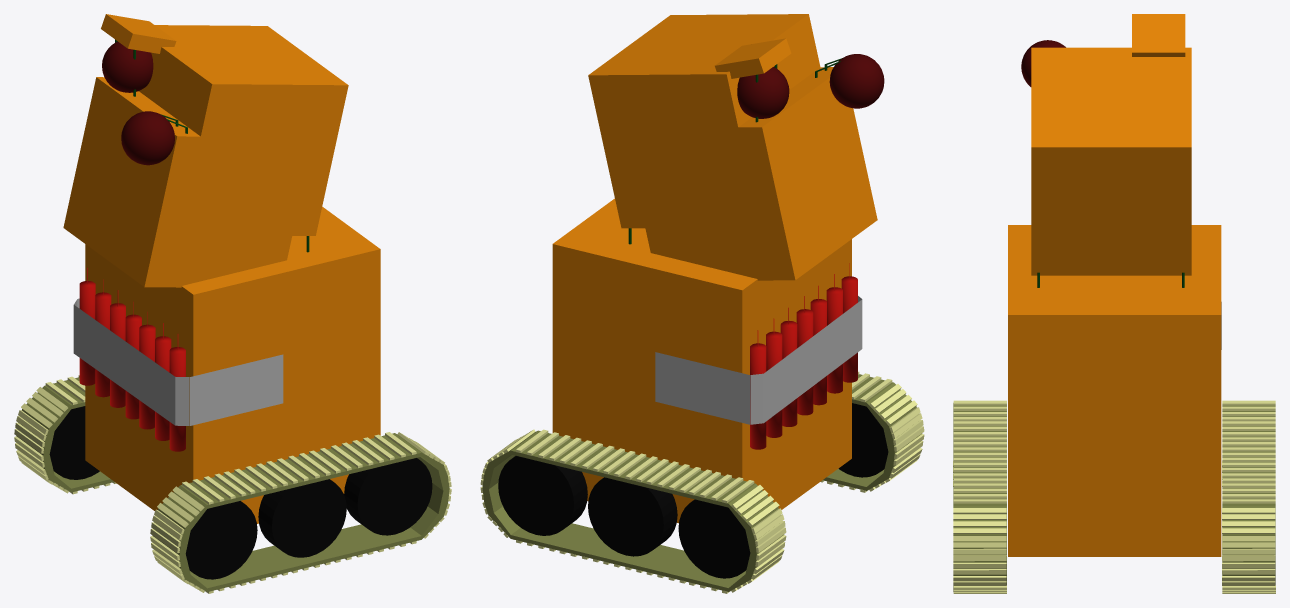
Rendered from Explode.fbx.
3 renders of one model, left to right at view 1: azimuth 30°, elevation 25°; view 2: azimuth 150°, elevation 25°; view 3: azimuth 270°, elevation 25°, orthographic. The views are drawn at different scales.
Parts seen in each view (by area): view 1: Cube.095; view 2: Cube.095; view 3: Cube.095.
Boxes of the visible parts, <box> form: Cube.095: <box>14,14,451,593</box>; Cube.095: <box>480,14,924,593</box>; Cube.095: <box>953,14,1275,593</box>.
Size of the model in its own units: 59.69 by 100 by 60.47.
